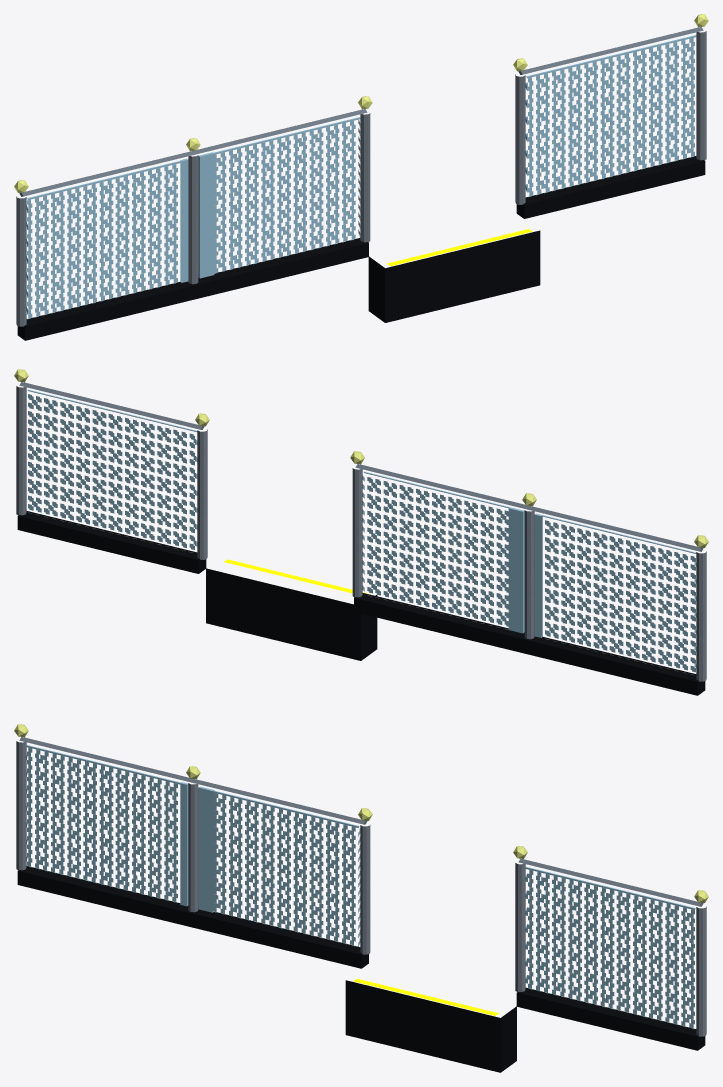
The model's file is tt_struct_guards_gallery.glb.
3 renders of one model, top to bottom at view 1: azimuth 30°, elevation 25°; view 2: azimuth 150°, elevation 25°; view 3: azimuth 330°, elevation 25°, orthographic.
Parts seen in each view (by area): view 1: Guard_Pane_Scissor, Guard_Kerb, Door_Infill, Guard_Posts, Guard_Rail, Guard_Ball_Finials, Door_Infill_Line; view 2: Guard_Pane_Scissor, Guard_Kerb, Door_Infill, Guard_Posts, Guard_Rail, Guard_Ball_Finials, Door_Infill_Line; view 3: Guard_Pane_Scissor, Guard_Kerb, Door_Infill, Guard_Posts, Guard_Rail, Guard_Ball_Finials, Door_Infill_Line.
Part boxes in pixels (left/top/right/bottom): Guard_Pane_Scissor: left=26, top=35, right=696, bottom=319; Guard_Kerb: left=17, top=156, right=705, bottom=340; Door_Infill: left=368, top=230, right=540, bottom=322; Guard_Posts: left=16, top=31, right=706, bottom=326; Guard_Rail: left=19, top=27, right=703, bottom=196; Guard_Ball_Finials: left=14, top=14, right=708, bottom=192; Door_Infill_Line: left=386, top=229, right=532, bottom=266; Guard_Pane_Scissor: left=27, top=389, right=696, bottom=675; Guard_Kerb: left=17, top=511, right=705, bottom=695; Door_Infill: left=206, top=568, right=377, bottom=660; Guard_Posts: left=16, top=386, right=706, bottom=681; Guard_Rail: left=19, top=382, right=703, bottom=551; Guard_Ball_Finials: left=14, top=369, right=708, bottom=547; Door_Infill_Line: left=224, top=559, right=369, bottom=594; Guard_Pane_Scissor: left=26, top=745, right=695, bottom=1028; Guard_Kerb: left=17, top=866, right=705, bottom=1050; Door_Infill: left=345, top=980, right=516, bottom=1072; Guard_Posts: left=16, top=741, right=706, bottom=1036; Guard_Rail: left=19, top=737, right=703, bottom=906; Guard_Ball_Finials: left=14, top=724, right=708, bottom=902; Door_Infill_Line: left=353, top=978, right=498, bottom=1015.
Size of what is drawn, in the model's own units: 5.35 by 1.56 by 0.316.
Materials: 6 (4 with a texture image).
